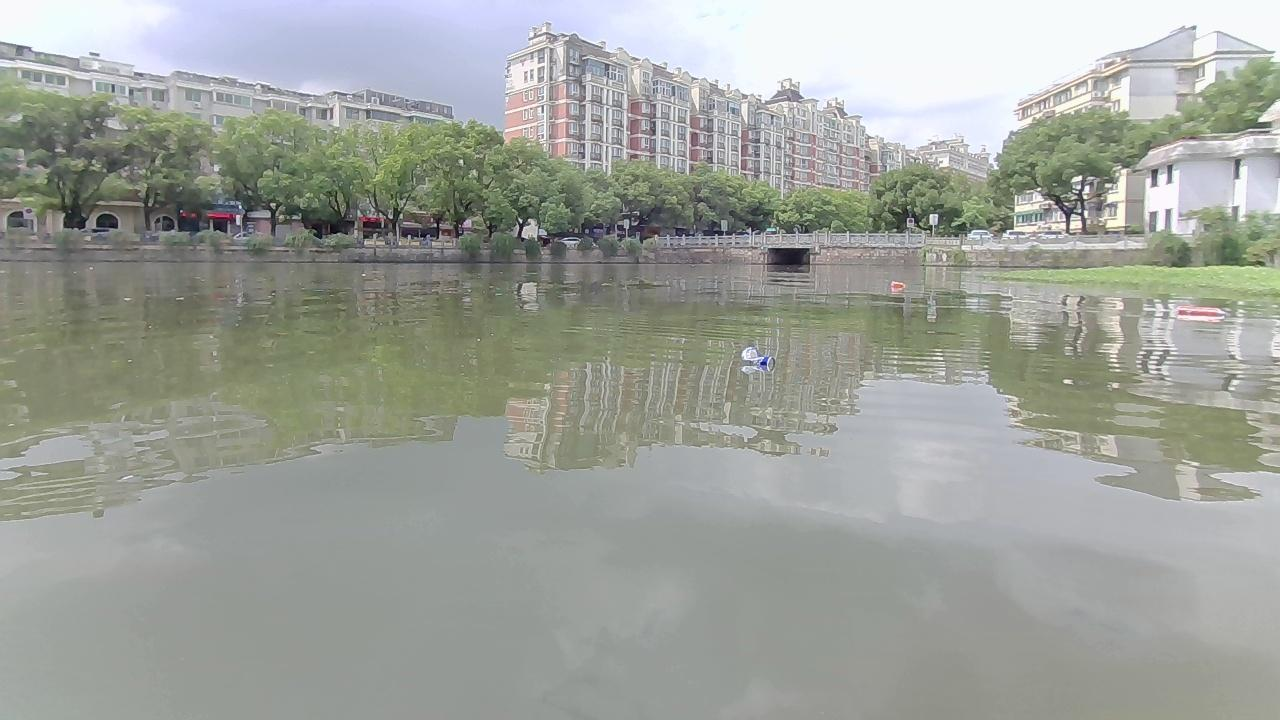bottle: (740, 346, 774, 364), (1174, 304, 1225, 314), (889, 280, 904, 286)
